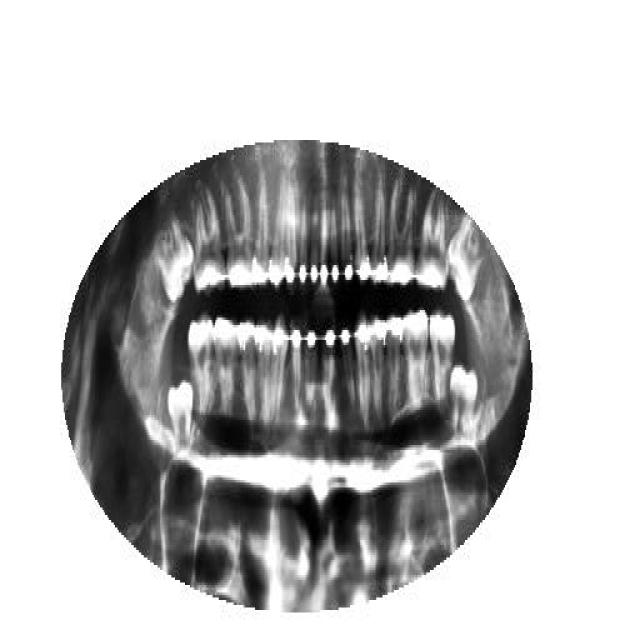Impacted Tooth: (158, 210, 198, 308), (446, 212, 485, 300)
